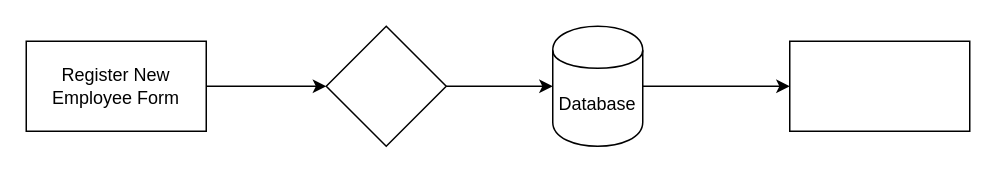
Some shapes in this 996 by 173 pixel diagram are drawn without their labels. Each missing label, with the centre of its shape:
"List of Employee" goes at point 879,85.
"Validation" goes at point 385,85.
